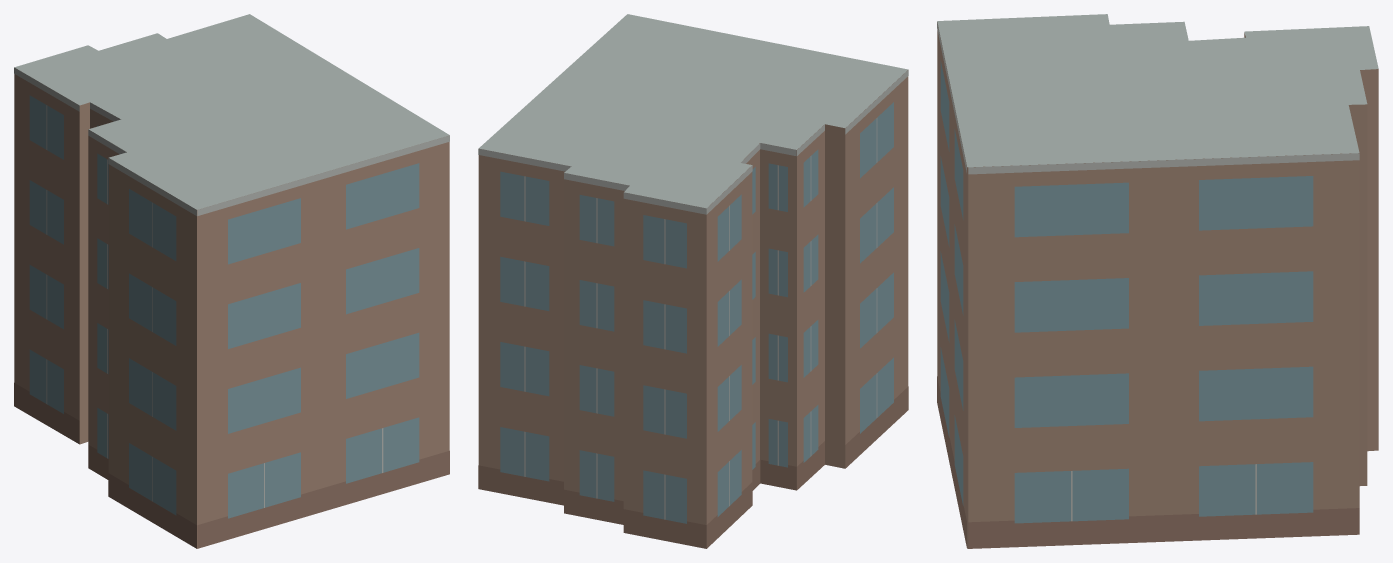
Rendered from survey-upis-32965318.glb.
The picture shows the model from 3 angles, left to right: view 1: azimuth 30°, elevation 25°; view 2: azimuth 150°, elevation 25°; view 3: azimuth 270°, elevation 25°; orthographic projection. The views are drawn at different scales.
Visible parts, largest first — view 1: survey-upis-32965318.tmp; view 2: survey-upis-32965318.tmp; view 3: survey-upis-32965318.tmp.
Part boxes in pixels (bbox=[...]): survey-upis-32965318.tmp: bbox=[14, 14, 449, 548]; survey-upis-32965318.tmp: bbox=[478, 14, 908, 548]; survey-upis-32965318.tmp: bbox=[937, 14, 1378, 548].
Bounding box in the file's own units: 11.21 × 13 × 13.64.
